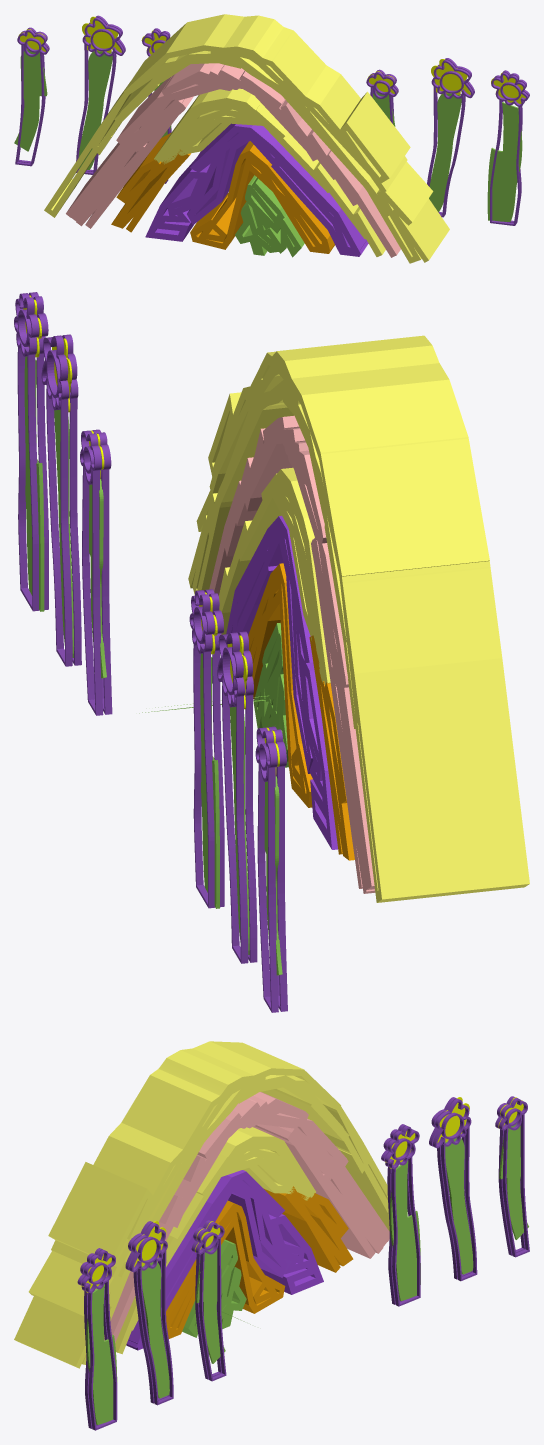
The picture shows the model from 3 angles, top to bottom: view 1: azimuth 30°, elevation 25°; view 2: azimuth 150°, elevation 25°; view 3: azimuth 270°, elevation 25°; orthographic projection. The views are drawn at different scales.
Parts seen in each view (by area): view 1: 9; view 2: 9; view 3: 9.
Part boxes in pixels (x1=…): 9: x1=14, y1=14, x2=529, y2=263; 9: x1=14, y1=292, x2=529, y2=1012; 9: x1=14, y1=1041, x2=529, y2=1430.
Size of the model in its own units: 3.87 by 2.08 by 3.99.
